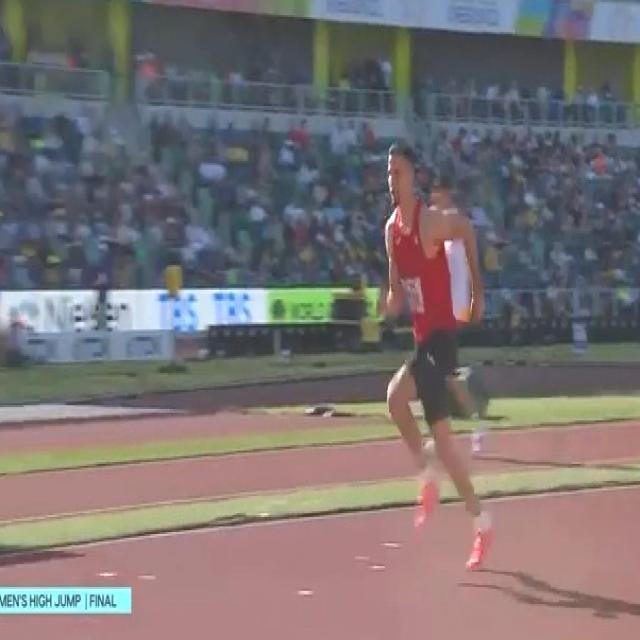run: (380, 142, 493, 569)
